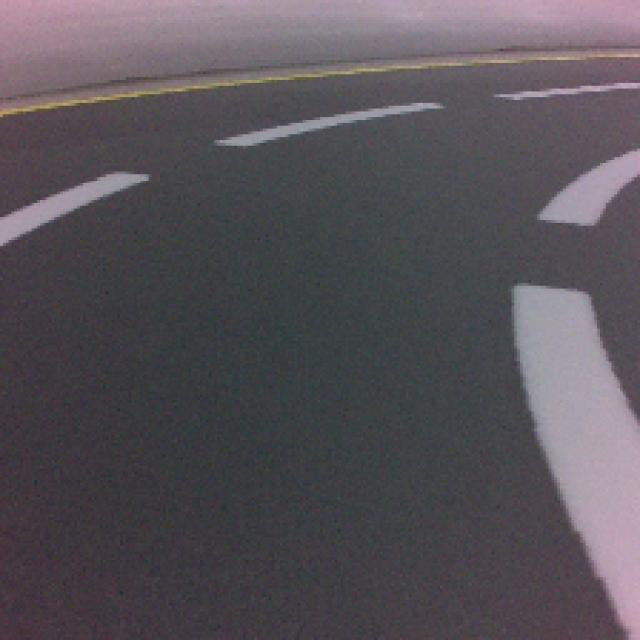Road: (0, 317, 628, 635)
